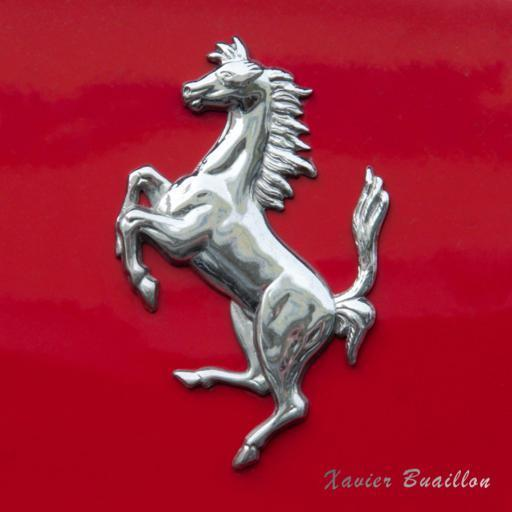horse: (112, 38, 390, 472)
